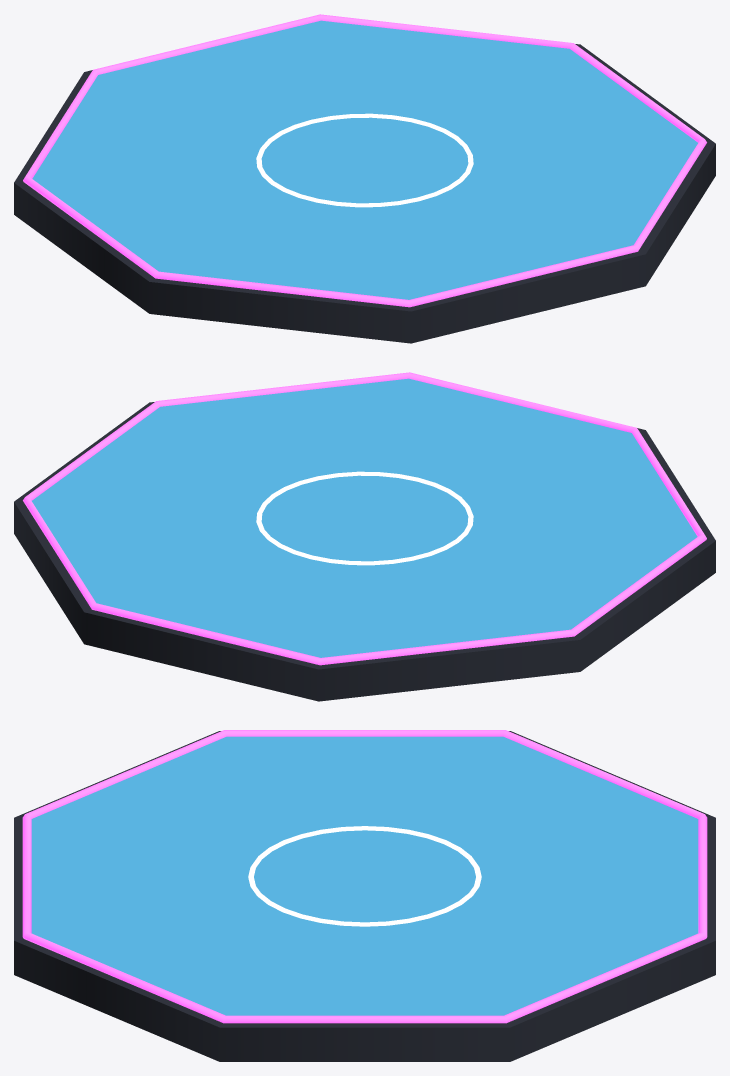
File: fight_ring.glb
The picture shows the model from 3 angles, top to bottom: view 1: azimuth 30°, elevation 25°; view 2: azimuth 150°, elevation 25°; view 3: azimuth 270°, elevation 25°; orthographic projection. The views are drawn at different scales.
Visible parts, largest first — view 1: fight_ring; view 2: fight_ring; view 3: fight_ring.
Boxes of the visible parts, bbox=[...] form: fight_ring: bbox=[14, 14, 715, 343]; fight_ring: bbox=[14, 372, 715, 701]; fight_ring: bbox=[14, 730, 715, 1061].
Bounding box in the file's own units: 7.39 × 0.4633 × 7.39.
